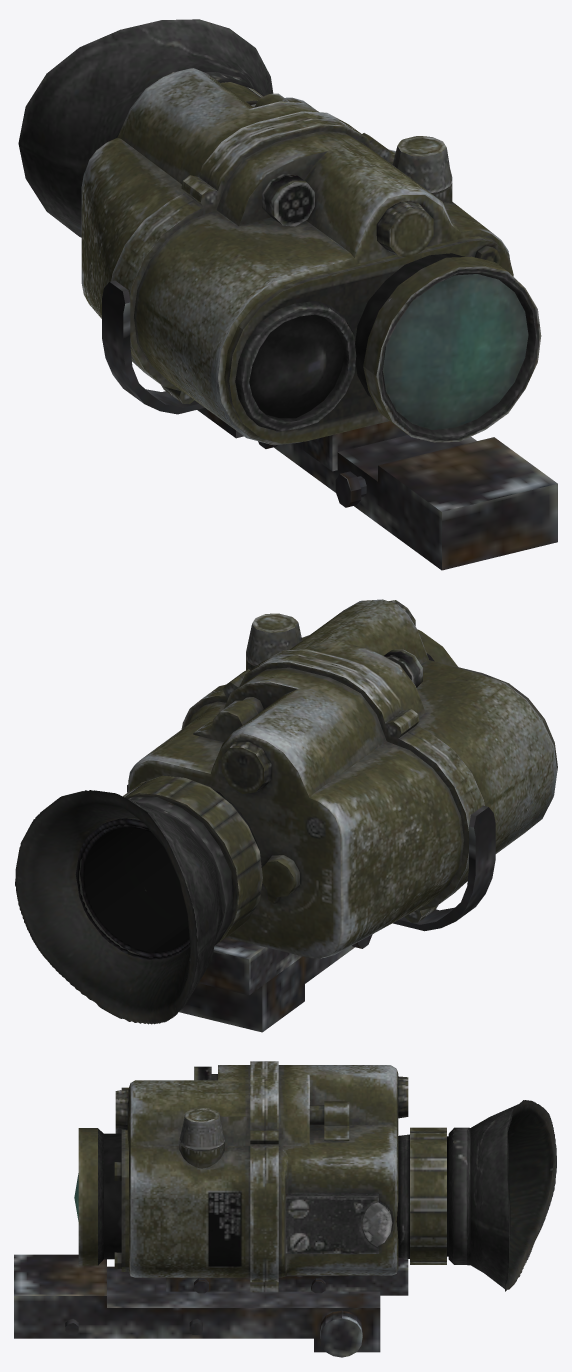
The model's file is optica.obj.
3 views of the same model, one above another, from view 1: azimuth 30°, elevation 25°; view 2: azimuth 150°, elevation 25°; view 3: azimuth 270°, elevation 25° (orthographic). The views are drawn at different scales.
Visible parts, largest first — view 1: wpn34_infrared_scope, wpn_obves; view 2: wpn34_infrared_scope, wpn34_gun_pricel, wpn_obves; view 3: wpn34_infrared_scope, wpn_obves, wpn34_gun_pricel.
Part boxes in pixels (box(x1,y1,x2,y2)): wpn34_infrared_scope: box(18, 19, 541, 445); wpn_obves: box(102, 280, 557, 570); wpn34_infrared_scope: box(92, 599, 557, 1010); wpn34_gun_pricel: box(15, 790, 241, 1024); wpn_obves: box(75, 805, 495, 1032); wpn34_infrared_scope: box(74, 1061, 518, 1292); wpn_obves: box(14, 1254, 408, 1357); wpn34_gun_pricel: box(396, 1100, 556, 1291).
Bounding box in the file's own units: 0.0702 × 0.0669 × 0.1353.
